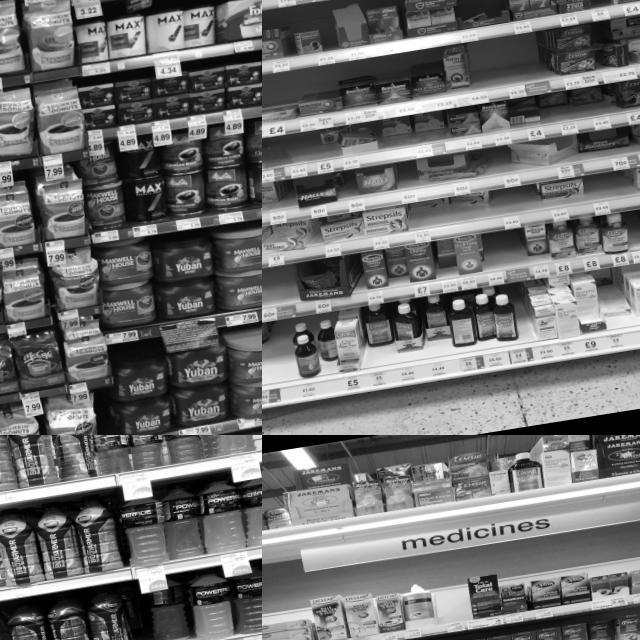empty_space: (497, 34, 546, 98), (483, 227, 529, 285), (262, 341, 295, 408), (469, 40, 503, 104), (262, 265, 299, 323), (494, 184, 538, 230), (434, 585, 473, 635), (586, 171, 626, 217), (286, 133, 318, 179), (262, 135, 291, 183), (396, 160, 422, 204), (493, 145, 516, 188), (342, 169, 361, 212), (627, 209, 640, 263), (585, 0, 613, 21)
